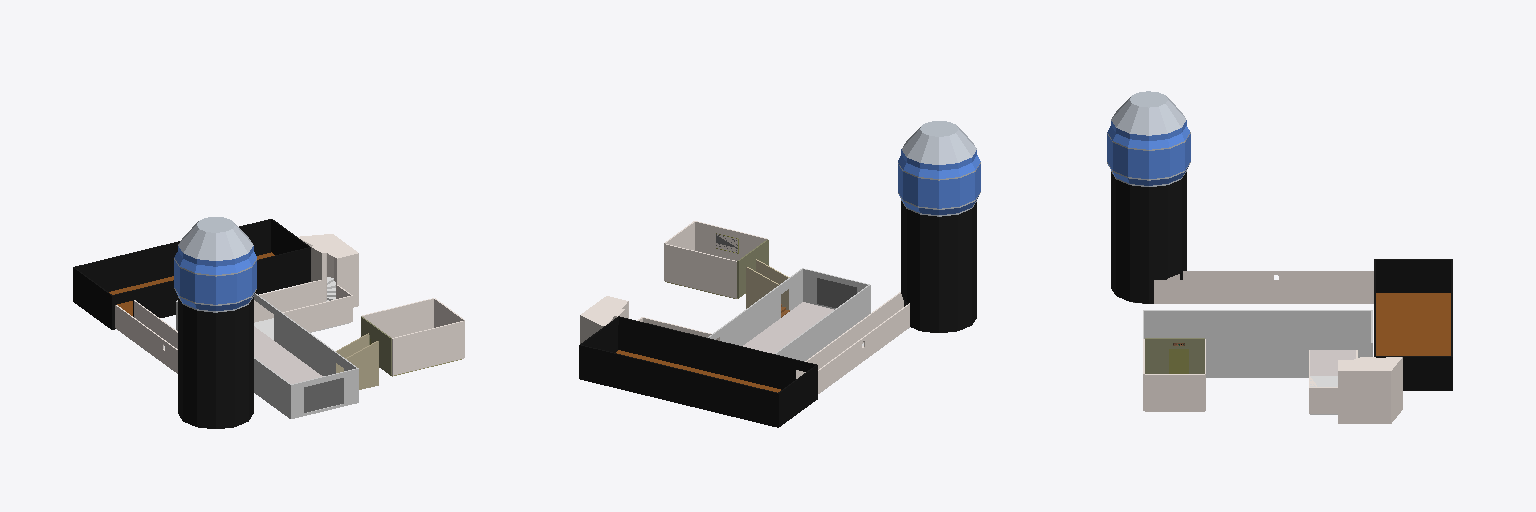
The picture shows the model from 3 angles: view 1: azimuth 30°, elevation 25°; view 2: azimuth 150°, elevation 25°; view 3: azimuth 270°, elevation 25°; orthographic projection.
Visible parts, largest first — view 1: Mesh21 Group24 Group23 Model, Mesh94 Group104 Model, Mesh10 Group11 Model, Mesh17 Group19 Model, Mesh33 Group38 Model, Mesh16 Group18 Model, Mesh20 Group22 Model, Mesh113 Model, Mesh95 Group105 Model, Mesh35 Group40 Model, Mesh91 Group100 Group95 Model, Mesh36 Group41 Model (+8 smaller); view 2: Mesh21 Group24 Group23 Model, Mesh94 Group104 Model, Mesh10 Group11 Model, Mesh16 Group18 Model, Mesh95 Group105 Model, Mesh20 Group22 Model, Mesh91 Group100 Group95 Model, Mesh96 Group106 Model, Mesh17 Group19 Model, Mesh33 Group38 Model, Mesh36 Group41 Model, Mesh12 Group14 Model (+6 smaller); view 3: Mesh10 Group11 Model, Mesh94 Group104 Model, Mesh96 Group106 Model, Mesh21 Group24 Group23 Model, Mesh22 Group26 Group23 Model, Mesh33 Group38 Model, Mesh15 Group17 Model, Mesh90 Group101 Group100 Group95 Model, Mesh95 Group105 Model, Mesh12 Group14 Model, Mesh20 Group22 Model, Mesh113 Model (+3 smaller).
Part boxes in pixels (x1,y1,x2,y2): Mesh21 Group24 Group23 Model: (73, 219, 310, 329); Mesh94 Group104 Model: (178, 297, 253, 428); Mesh10 Group11 Model: (176, 293, 358, 418); Mesh17 Group19 Model: (392, 321, 464, 375); Mesh33 Group38 Model: (298, 234, 358, 307); Mesh16 Group18 Model: (362, 298, 433, 337); Mesh20 Group22 Model: (254, 326, 322, 383); Mesh113 Model: (282, 285, 352, 331); Mesh95 Group105 Model: (115, 305, 177, 373); Mesh35 Group40 Model: (254, 280, 321, 322); Mesh91 Group100 Group95 Model: (178, 217, 234, 260); Mesh36 Group41 Model: (304, 378, 342, 412); Mesh21 Group24 Group23 Model: (579, 316, 817, 427); Mesh94 Group104 Model: (901, 201, 976, 332); Mesh10 Group11 Model: (708, 268, 870, 361); Mesh16 Group18 Model: (664, 244, 736, 298); Mesh95 Group105 Model: (818, 303, 909, 393); Mesh20 Group22 Model: (743, 302, 833, 353); Mesh91 Group100 Group95 Model: (920, 121, 976, 164); Mesh96 Group106 Model: (796, 292, 903, 378); Mesh17 Group19 Model: (695, 221, 766, 260); Mesh33 Group38 Model: (580, 296, 628, 343); Mesh36 Group41 Model: (817, 278, 856, 307); Mesh12 Group14 Model: (737, 239, 768, 298); Mesh10 Group11 Model: (1143, 310, 1372, 377); Mesh94 Group104 Model: (1111, 172, 1186, 303); Mesh96 Group106 Model: (1154, 280, 1373, 303); Mesh21 Group24 Group23 Model: (1374, 259, 1452, 390); Mesh22 Group26 Group23 Model: (1376, 293, 1450, 355); Mesh33 Group38 Model: (1338, 357, 1402, 423); Mesh15 Group17 Model: (1145, 374, 1204, 411); Mesh90 Group101 Group100 Group95 Model: (1111, 97, 1185, 135); Mesh95 Group105 Model: (1183, 271, 1373, 279); Mesh12 Group14 Model: (1145, 338, 1204, 373); Mesh20 Group22 Model: (1310, 350, 1355, 375); Mesh113 Model: (1309, 350, 1337, 413).
Size of the model in its own units: 21.62 by 15.29 by 22.81.
19 materials, 1 textured.